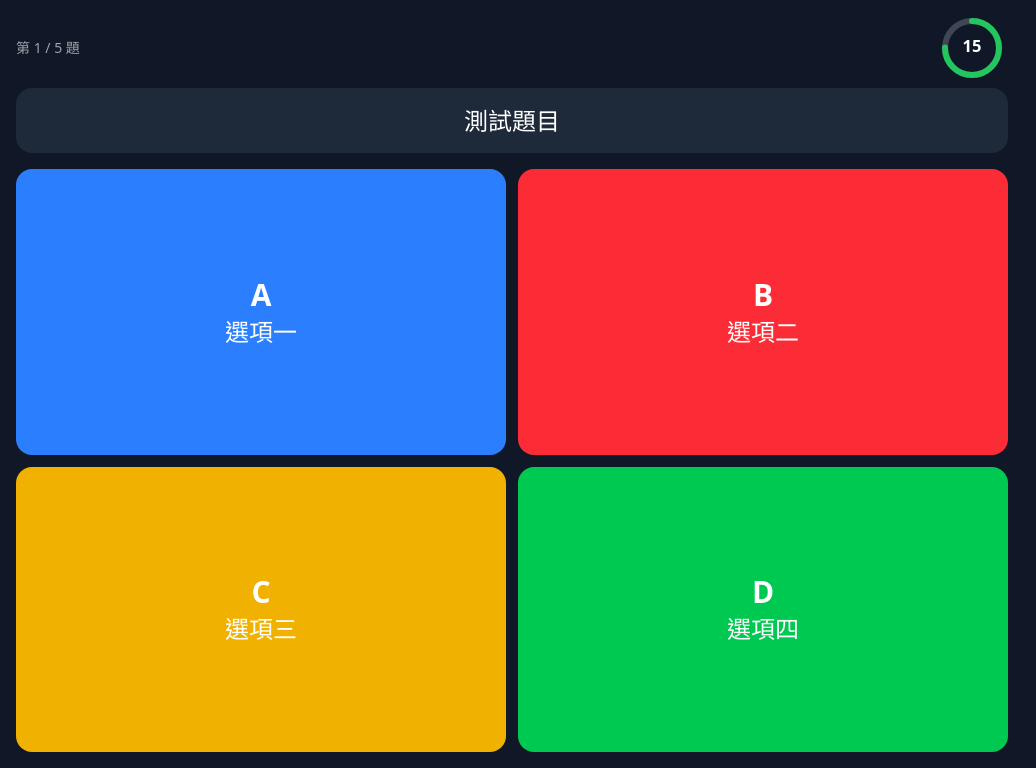
AnswerPad › shows 已作答 status after answering
Click the button with aria-label "選項 D": (763, 609) [518,466,1008,752]
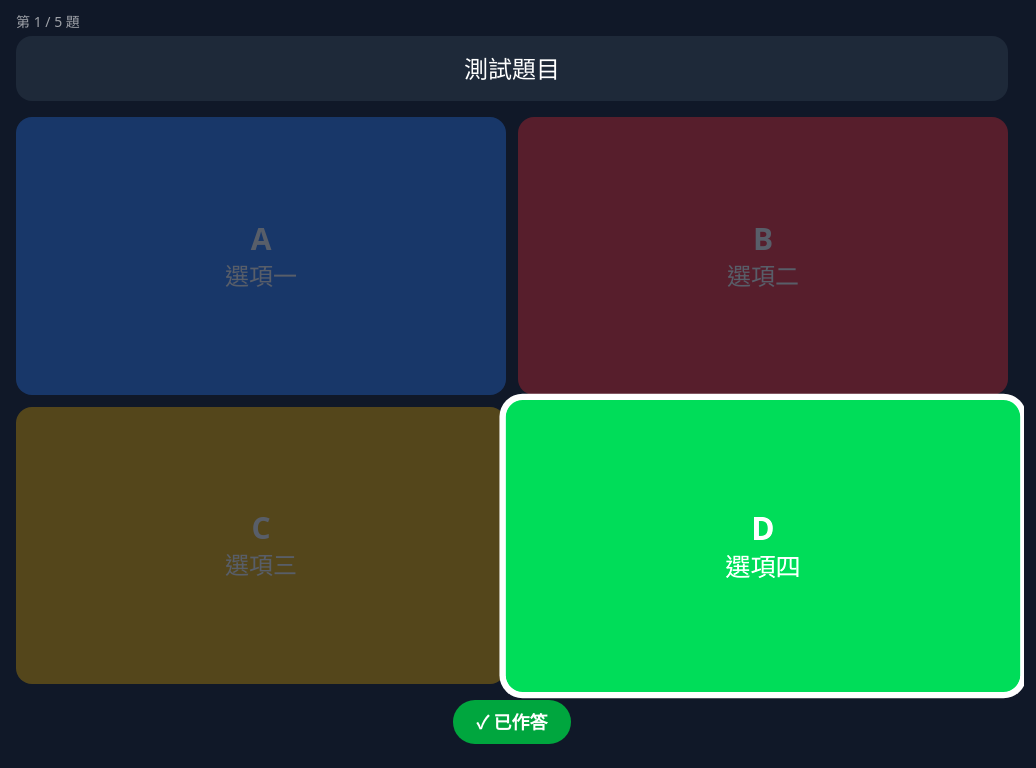
Result: the text "✓ 已作答" is shown at [452,700,572,744]
